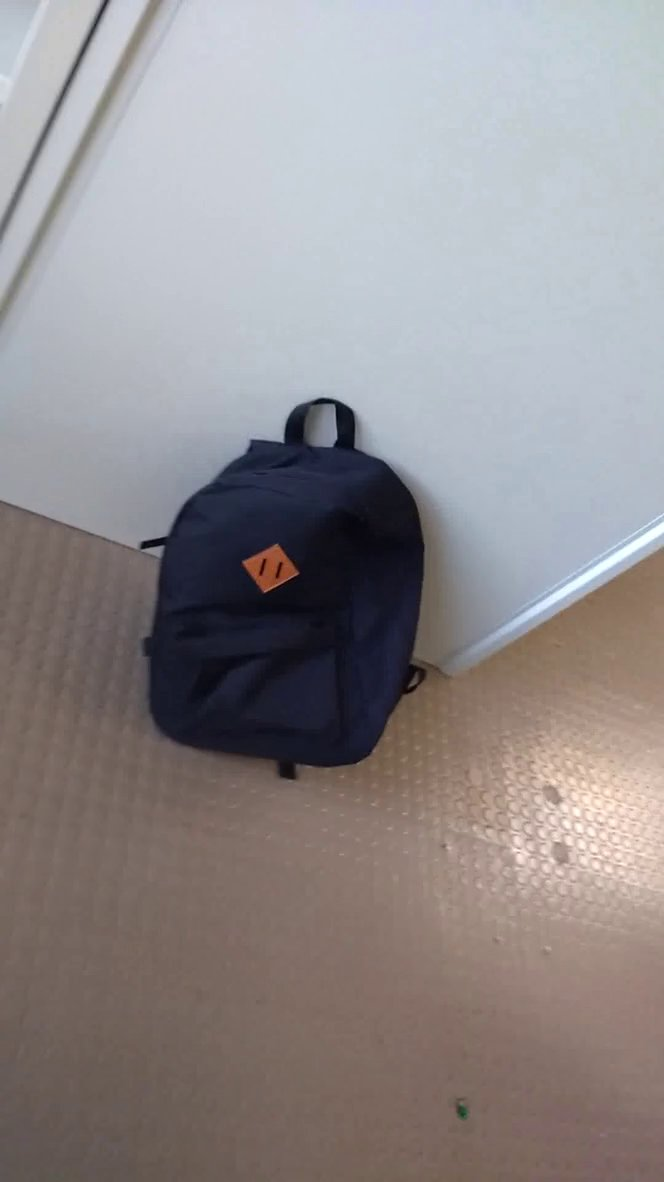bag: (134, 369, 458, 805)
